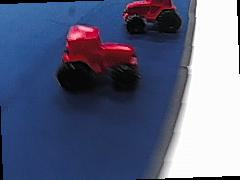Tracktor: (55, 20, 142, 92), (120, 0, 183, 34)
